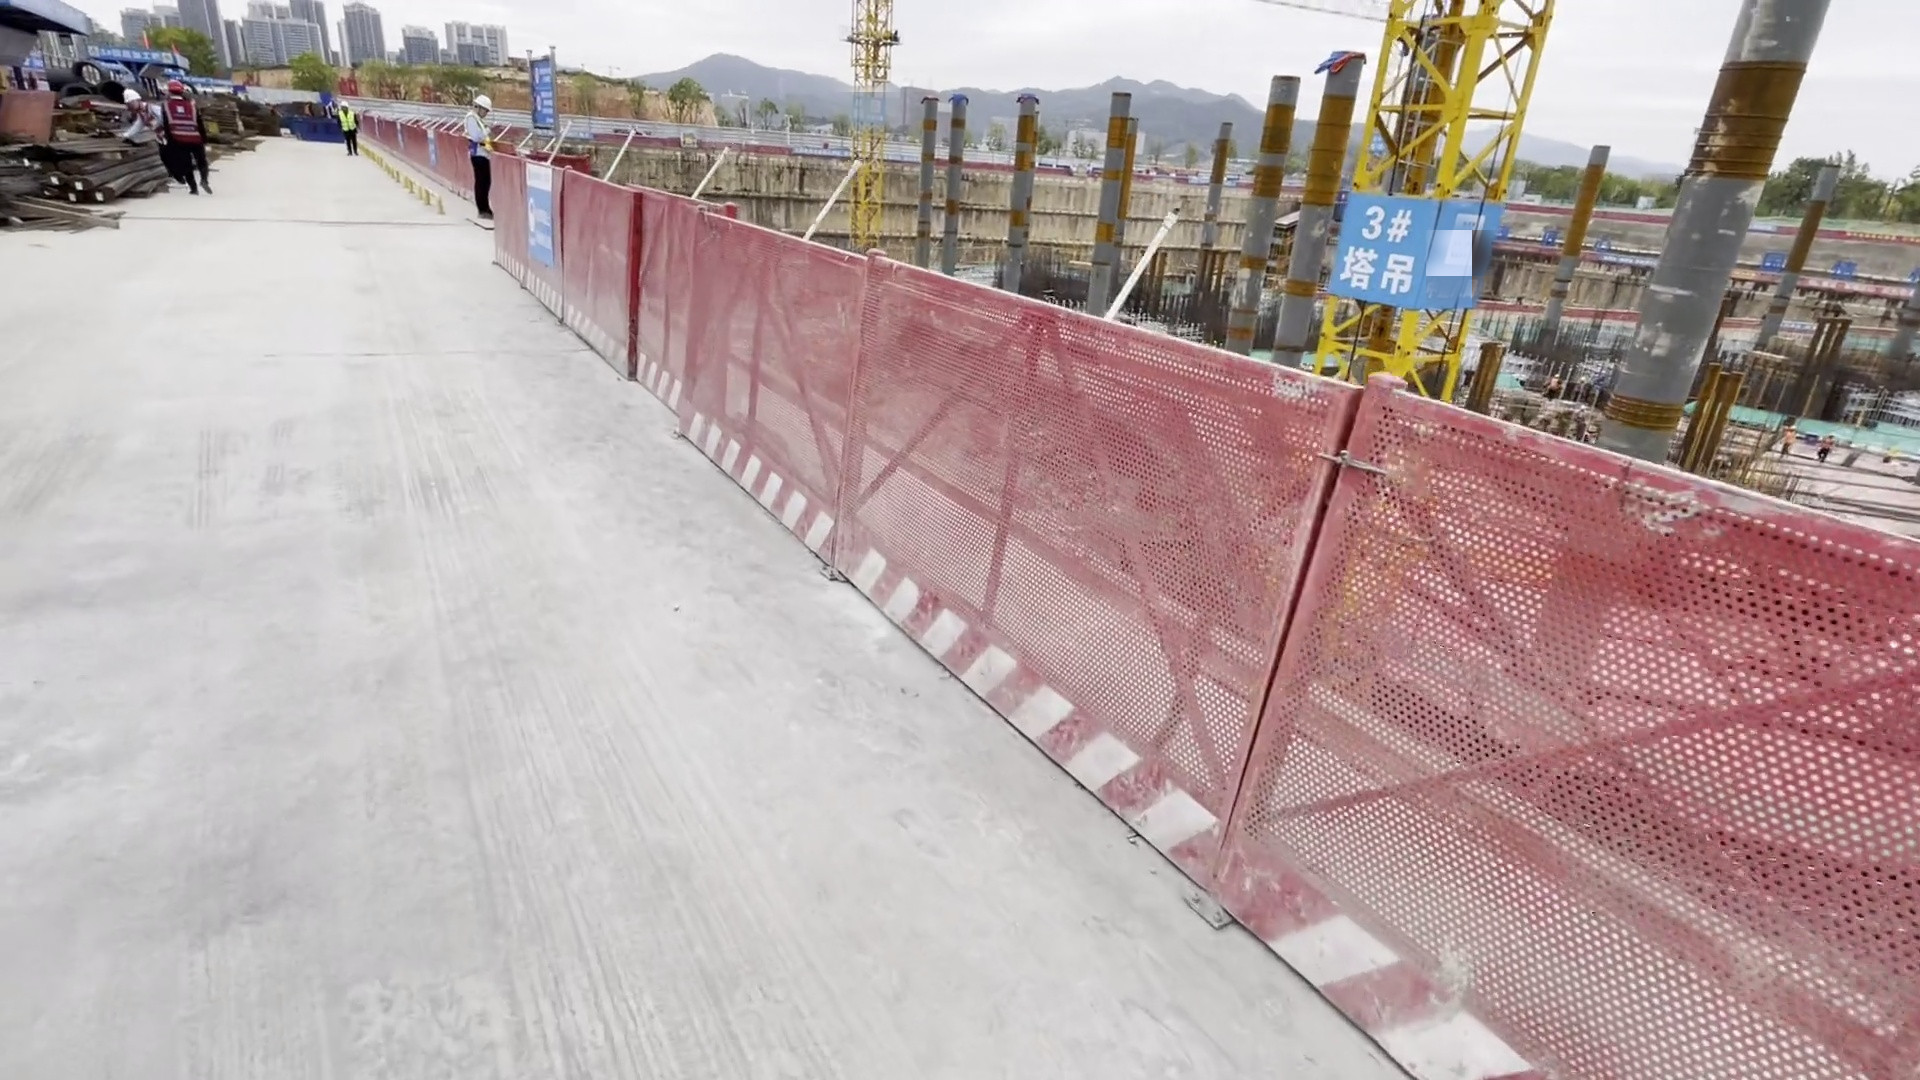fence: (545, 164, 1262, 894), (1249, 361, 1920, 1069)
helmet: (119, 89, 140, 104), (469, 96, 491, 109), (165, 81, 184, 94), (336, 99, 350, 109)
person: (459, 94, 502, 227), (170, 84, 210, 203), (124, 90, 169, 179), (332, 103, 361, 163)
slogan: (520, 164, 562, 261)
vest: (162, 96, 200, 143), (465, 112, 491, 162), (137, 107, 164, 145), (335, 111, 358, 133)
